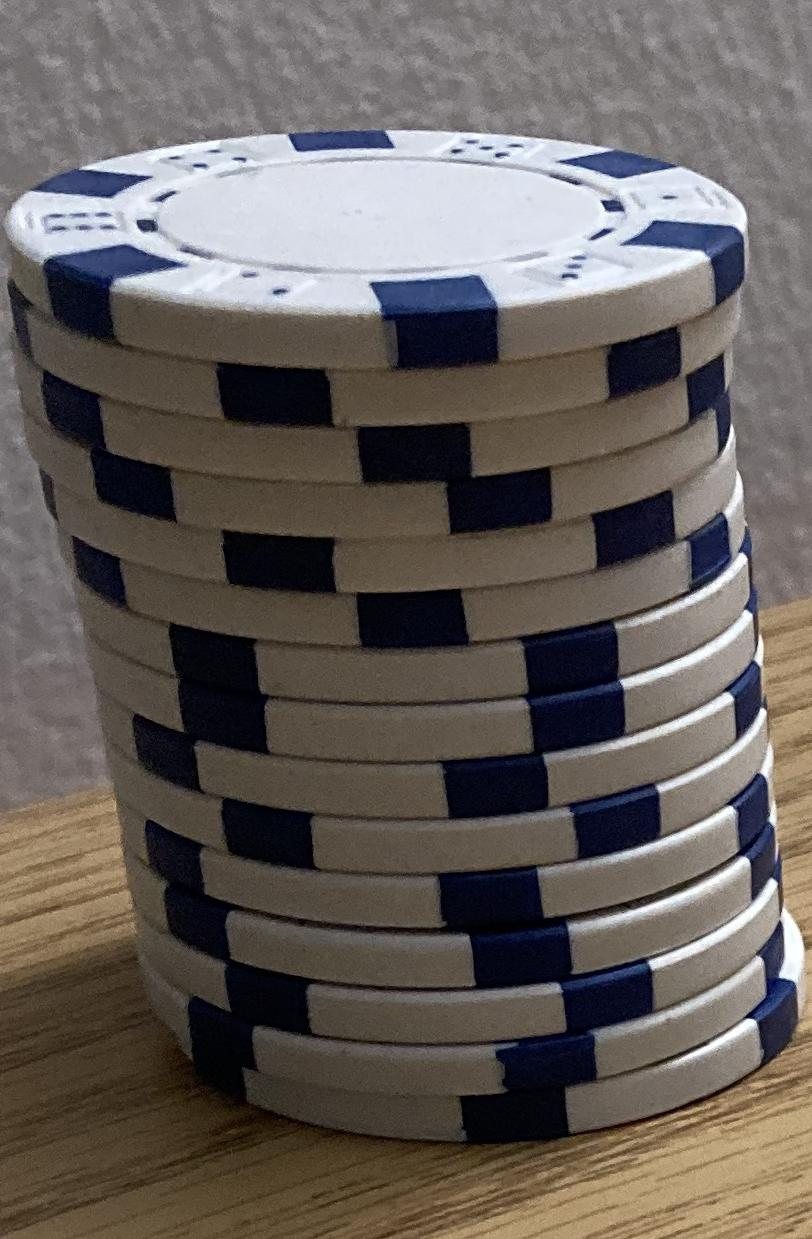Chip: (1, 1, 812, 1239)
